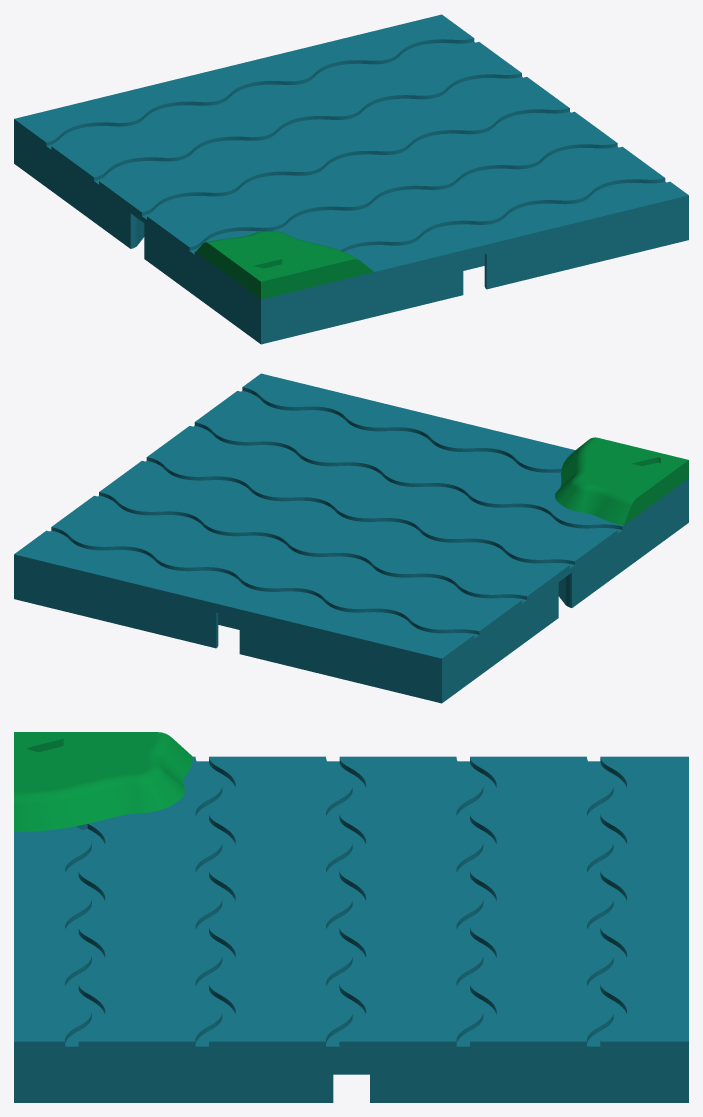
File: 5x5 Grass On Water Outer Corner.obj
3 views of the same model, one above another, from view 1: azimuth 30°, elevation 25°; view 2: azimuth 150°, elevation 25°; view 3: azimuth 270°, elevation 25° (orthographic). The views are drawn at different scales.
Visible parts, largest first — view 1: Körper1:1, Körper1; view 2: Körper1:1, Körper1; view 3: Körper1:1, Körper1.
Boxes of the visible parts, x1,y1,x2,y2 form: Körper1:1: (14,14,688,344); Körper1: (196,231,373,299); Körper1:1: (14,373,688,703); Körper1: (555,437,688,525); Körper1:1: (14,756,688,1102); Körper1: (14,732,192,831).
Size of the model in its own units: 50 by 7 by 50.
